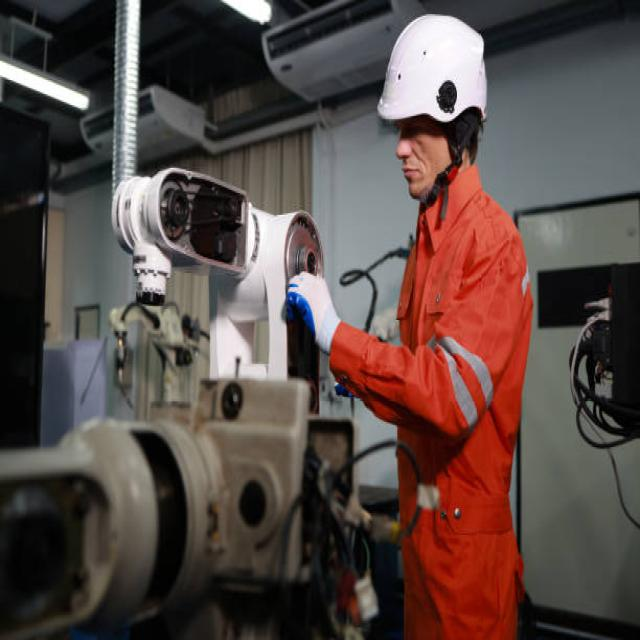Robotic-arm: (106, 162, 332, 396)
